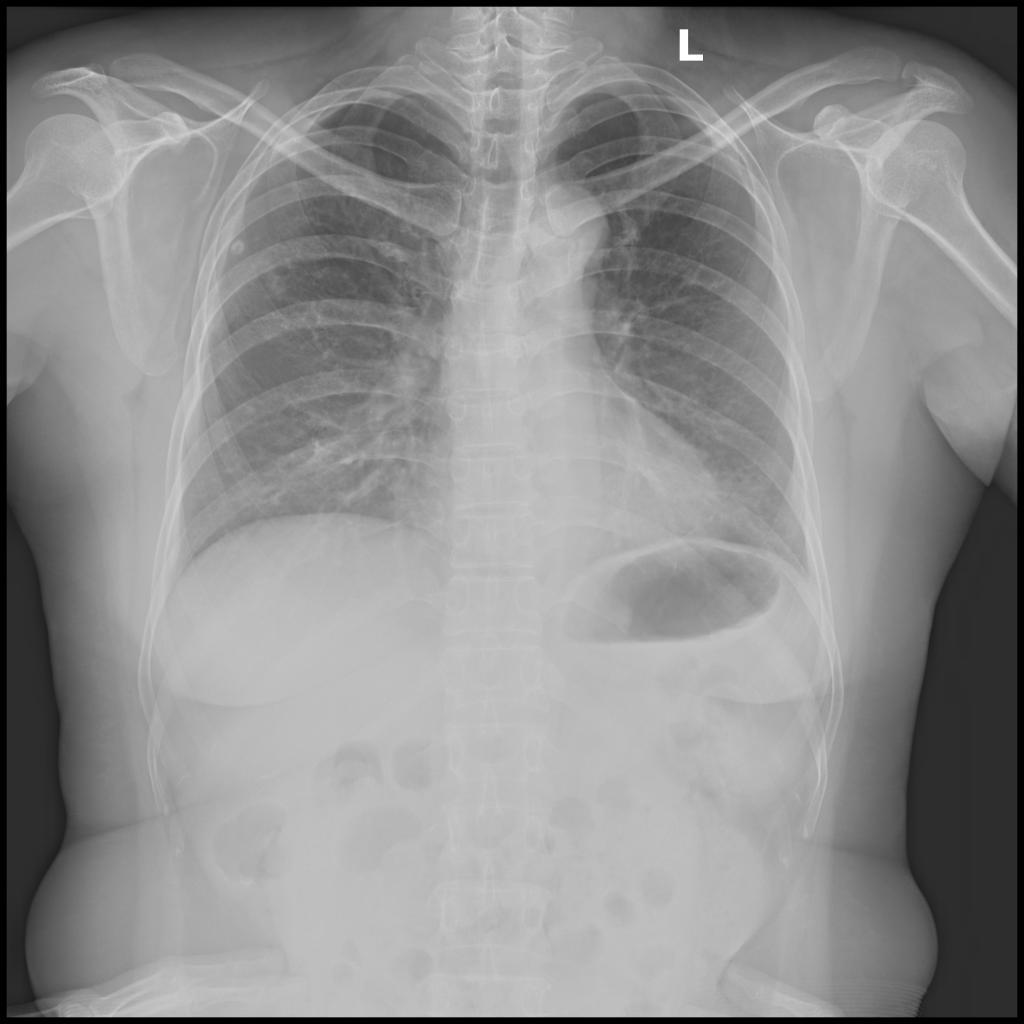Nodule: (232, 238, 246, 254)
